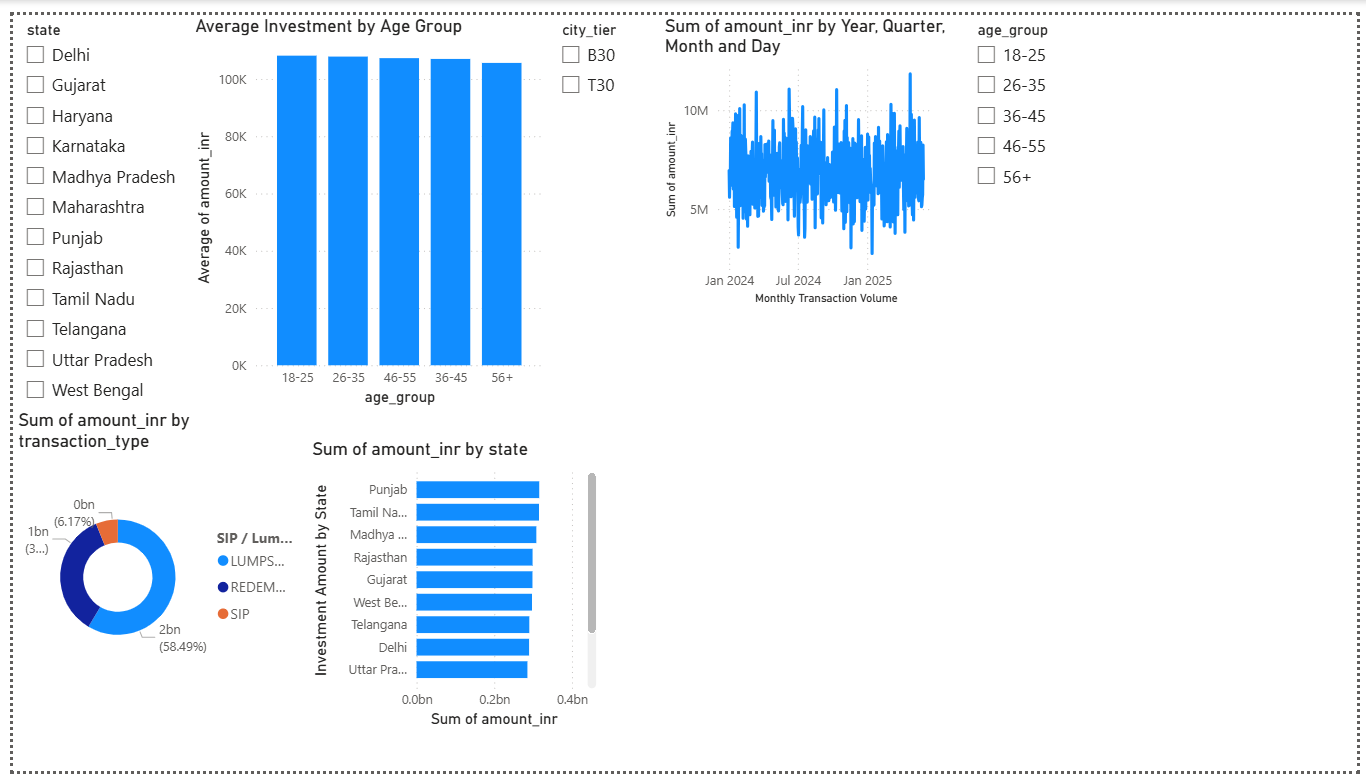

What the dashboard file says about the page in this screenshot:
{"tool":"powerbi","page":{"name":"Investor Analytics","canvas":[1280,720],"ordinal":2},"visuals":[{"type":"clusteredBarChart","fields":{"Category":["08_investor_transactions_cleaned.state"],"Y":["Sum(08_investor_transactions_cleaned.amount_inr)"]},"box":[280,402.5,280,280],"z":0},{"type":"donutChart","fields":{"Category":["08_investor_transactions_cleaned.transaction_type"],"Y":["Sum(08_investor_transactions_cleaned.amount_inr)"]},"box":[0,376.2,280,280],"z":1},{"type":"clusteredColumnChart","title":"Average Investment by Age Group","fields":{"Category":["08_investor_transactions_cleaned.age_group"],"Y":["Avg(08_investor_transactions_cleaned.amount_inr)"]},"box":[168.8,0,341.2,376.2],"z":2},{"type":"lineChart","fields":{"Y":["Sum(08_investor_transactions_cleaned.amount_inr)"],"Category":["08_investor_transactions_cleaned.transaction_date.Variation.Date Hierarchy.Year","08_investor_transactions_cleaned.transaction_date.Variation.Date Hierarchy.Quarter","08_investor_transactions_cleaned.transaction_date.Variation.Date Hierarchy.Month","08_investor_transactions_cleaned.transaction_date.Variation.Date Hierarchy.Day"]},"box":[616.2,0,280,280],"z":3},{"type":"slicer","fields":{"Values":["08_investor_transactions_cleaned.state"]},"box":[0,0,168.8,376.2],"z":4},{"type":"slicer","fields":{"Values":["08_investor_transactions_cleaned.city_tier"]},"box":[510,0,106.2,88.8],"z":5},{"type":"slicer","fields":{"Values":["08_investor_transactions_cleaned.age_group"]},"box":[906.2,0,108.8,188.8],"z":6}]}

Visuals, with their boxes in screenshot pixels (x1, y1, x2, y2), scaled from the page's 1280x720 canvas onto the 1366x781 screenshot:
clusteredBarChart - 08_investor_transactions_cleaned.state x Sum(08_investor_transactions_cleaned.amount_inr): box=[299, 437, 598, 740]
donutChart - 08_investor_transactions_cleaned.transaction_type x Sum(08_investor_transactions_cleaned.amount_inr): box=[0, 408, 299, 712]
"Average Investment by Age Group" clusteredColumnChart: box=[180, 0, 544, 408]
lineChart - Sum(08_investor_transactions_cleaned.amount_inr) x 08_investor_transactions_cleaned.transaction_date.Variation.Date Hierarchy.Year: box=[658, 0, 956, 304]
slicer - 08_investor_transactions_cleaned.state: box=[0, 0, 180, 408]
slicer - 08_investor_transactions_cleaned.city_tier: box=[544, 0, 658, 96]
slicer - 08_investor_transactions_cleaned.age_group: box=[967, 0, 1083, 205]
